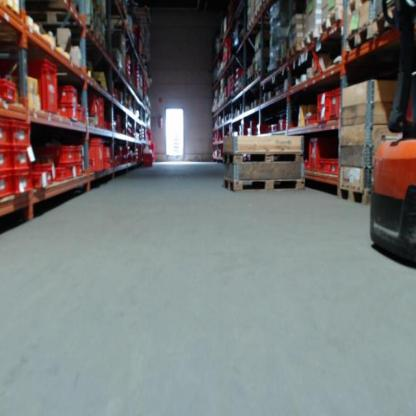pallet: (220, 150, 304, 166), (222, 176, 306, 191), (345, 20, 376, 56), (319, 4, 344, 36), (335, 185, 370, 206), (376, 3, 397, 38), (346, 0, 370, 17), (302, 27, 318, 50), (287, 41, 301, 60), (94, 29, 107, 49), (277, 54, 287, 70), (255, 69, 261, 80)
pallet_truck: (360, 2, 416, 271)
small_load_carrier: (11, 59, 61, 112), (306, 139, 338, 173), (36, 141, 77, 166), (88, 138, 104, 175), (329, 87, 346, 121), (12, 118, 31, 147), (37, 160, 57, 185), (57, 106, 81, 124), (14, 173, 33, 194), (57, 87, 79, 105), (66, 139, 83, 161), (2, 80, 17, 103), (1, 120, 14, 145), (13, 151, 31, 169), (32, 172, 52, 188), (0, 172, 12, 198), (2, 147, 14, 171), (329, 158, 344, 177), (316, 90, 332, 106), (76, 106, 88, 126), (315, 159, 330, 174), (53, 167, 67, 182), (65, 166, 84, 177), (314, 108, 330, 120), (99, 145, 112, 157), (103, 156, 111, 171)
